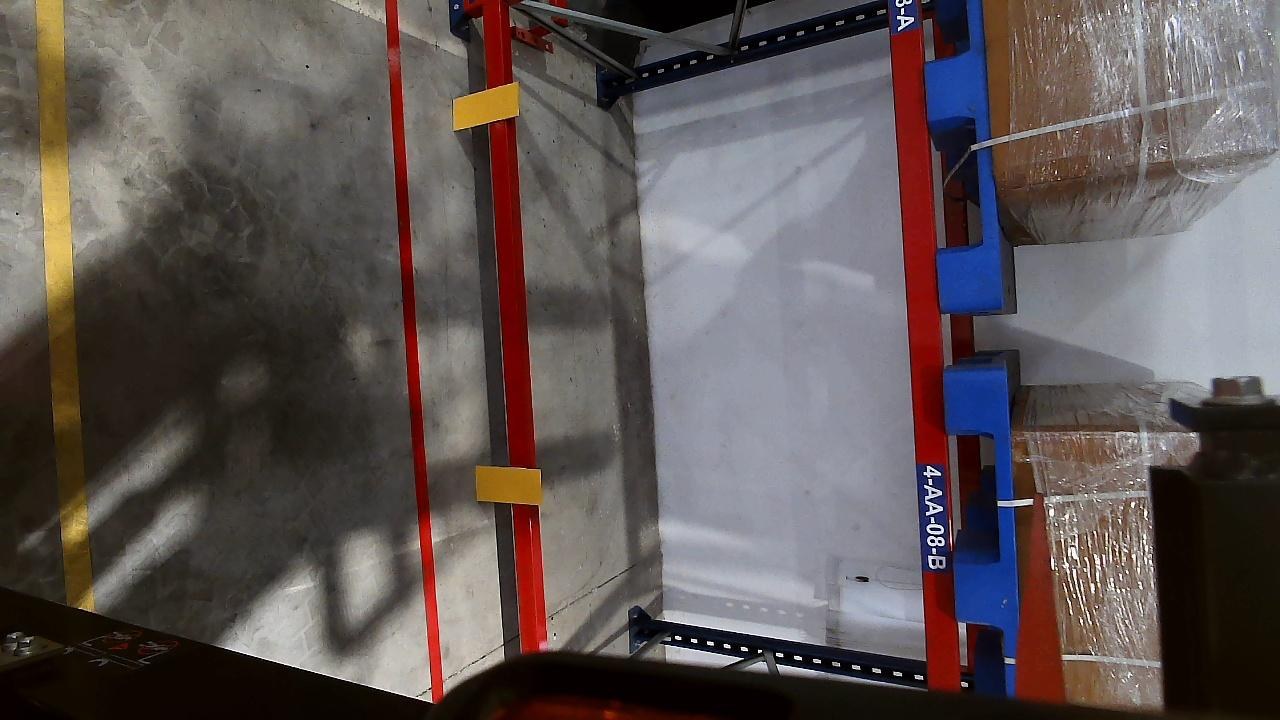h_rack: (884, 0, 965, 698), (484, 0, 549, 650)
orange_strip: (451, 83, 520, 130), (474, 464, 540, 505)
red_line: (380, 0, 453, 700)
small_pallet: (915, 1, 1008, 307), (943, 386, 1025, 691)
yellow_line: (28, 0, 96, 604)
